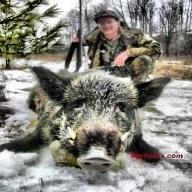boar: (13, 48, 160, 180)
